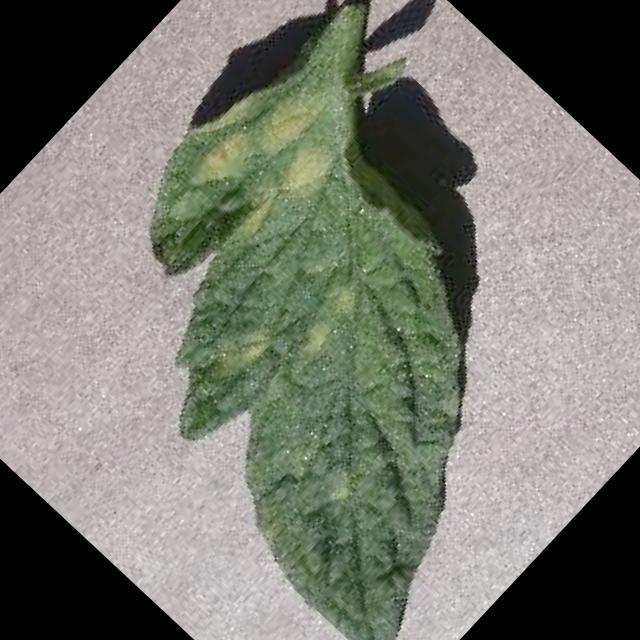Tomato mold leaf: (3, 49, 638, 640)
